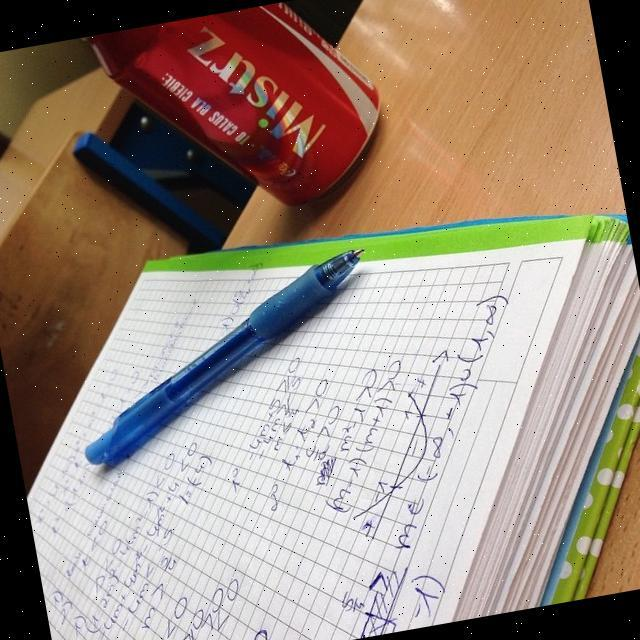coca-cola: (84, 0, 396, 238)
